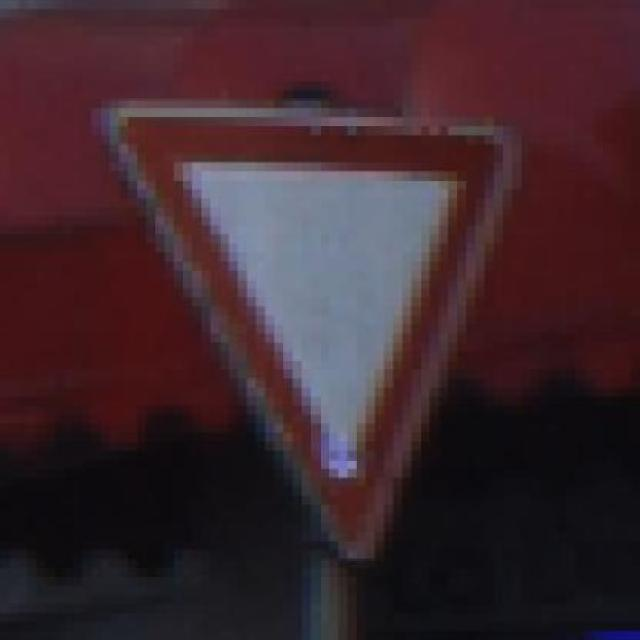Give Way: (82, 63, 576, 586)
